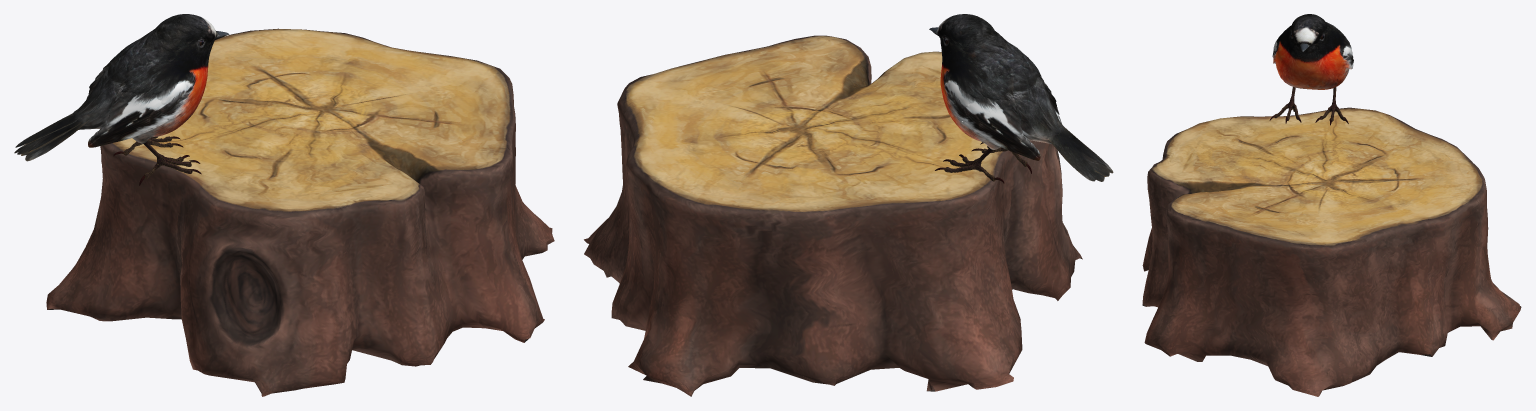
Rendered from robin.glb.
3 renders of one model, left to right at view 1: azimuth 30°, elevation 25°; view 2: azimuth 150°, elevation 25°; view 3: azimuth 270°, elevation 25°, orthographic. The views are drawn at different scales.
Parts seen in each view (by area): view 1: Tree_Stump.1_1, robin.1_0; view 2: Tree_Stump.1_1, robin.1_0; view 3: Tree_Stump.1_1, robin.1_0.
Part boxes in pixels (x1,y1,x2,y2): Tree_Stump.1_1: (46, 28, 554, 396); robin.1_0: (14, 14, 229, 185); Tree_Stump.1_1: (584, 35, 1082, 396); robin.1_0: (929, 14, 1113, 183); Tree_Stump.1_1: (1142, 107, 1521, 396); robin.1_0: (1269, 14, 1353, 125).
Size of the model in its own units: 0.3989 by 0.2256 by 0.32.
Materials: 2 (2 with a texture image).
